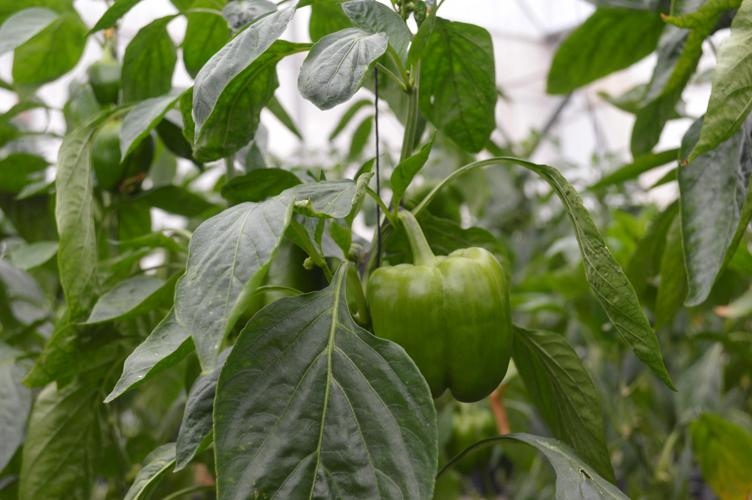BellPepper: (366, 244, 528, 413)
